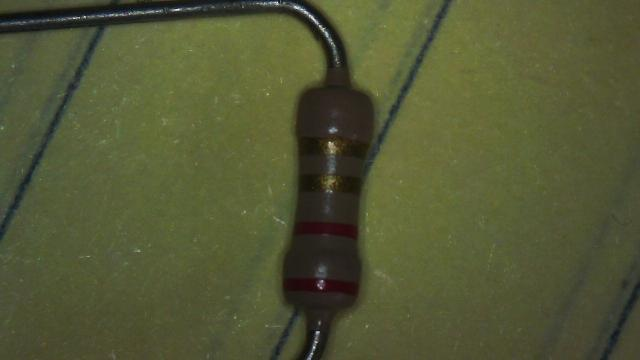gold: (298, 139, 370, 158)
red: (283, 278, 358, 295), (295, 221, 358, 240), (299, 174, 359, 192)
resistor: (271, 77, 382, 323)
